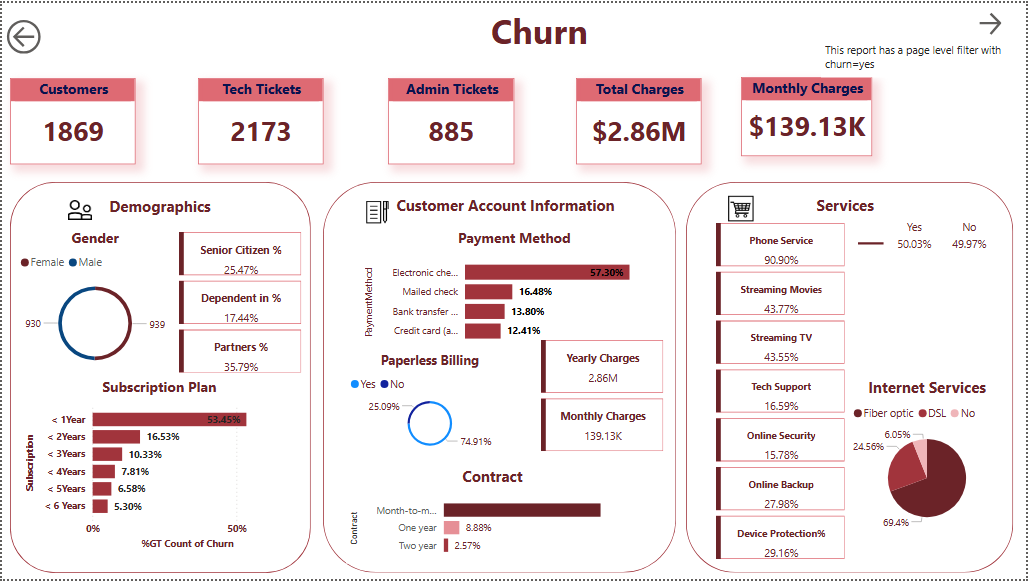

The dashboard page shown, as its layout file describes it:
{"tool":"powerbi","page":{"name":"Churn","canvas":[1280,720],"ordinal":1},"visuals":[{"type":"textbox","box":[336.9,0,668.5,69],"z":0},{"type":"card","title":"Customers","fields":{"Values":["1_measures.Total Customers"]},"box":[10.3,93.4,157.2,108.2],"z":1000},{"type":"card","title":"Tech Tickets","fields":{"Values":["1_measures.Tech Tickets"]},"box":[244.9,93.4,157.2,108.2],"z":2000},{"type":"card","title":"Admin Tickets","fields":{"Values":["1_measures.Admin Ticket"]},"box":[481.9,93.4,158.4,108.2],"z":3000},{"type":"card","title":"Total Charges","fields":{"Values":["1_measures.Total Charges"]},"box":[717.7,93.4,157.2,108.2],"z":4000},{"type":"card","title":"Monthly Charges","fields":{"Values":["1_measures.Monthly Charges"]},"box":[923.2,92.8,164.5,99.5],"z":5000},{"type":"shape","box":[10.3,223.3,375.9,488.7],"z":6000},{"type":"shape","box":[401.7,223.6,441.4,488.5],"z":7000},{"type":"shape","box":[854.8,223.6,409,488.5],"z":8000},{"type":"donutChart","title":"Gender","fields":{"Category":["Churn.gender"],"Y":["1_measures.Total Customers"]},"box":[17.8,281.1,197.8,186.7],"z":9000},{"type":"textbox","box":[35,236,325,35],"z":10000},{"type":"cardVisual","fields":{"Data":["1_measures.Senior Citizen %","1_measures.Dependent in %","1_measures.Partners %"]},"box":[216.2,281.2,163.2,187],"z":11000},{"type":"barChart","title":"Subscription Plan","fields":{"Category":["Churn.Subscription"],"Y":["CountNonNull(Churn.Churn)"]},"box":[25.6,467.8,343.3,221.1],"z":12000},{"type":"textbox","box":[470,235.6,318.9,35.6],"z":13000},{"type":"donutChart","title":"Paperless Billing","fields":{"Category":["Churn.PaperlessBilling"],"Y":["CountNonNull(Churn.PaperlessBilling)"]},"box":[429.8,435.1,209.6,131.3],"z":14000},{"type":"barChart","title":"Payment Method","fields":{"Category":["Churn.PaymentMethod"],"Y":["CountNonNull(Churn.PaymentMethod)"]},"box":[448.3,281.2,383.3,153.9],"z":15000},{"type":"barChart","title":"Contract","fields":{"Category":["Churn.Contract"],"Y":["CountNonNull(Churn.Contract)"]},"box":[429.8,578.3,366.1,122],"z":16000},{"type":"textbox","box":[910.7,235.4,285.4,35.3],"z":17000},{"type":"cardVisual","fields":{"Data":["1_measures.Phone Service%","1_measures.Streaming Movies%","1_measures.Streaming TV%","1_measures.Tech Support%","1_measures.Online Security%","1_measures.Online Backup%","1_measures.Device Protection%"]},"box":[887.9,270.1,171.4,430.4],"z":18000},{"type":"pieChart","title":"Internet Services","fields":{"Category":["Churn.InternetService"],"Y":["1_measures.Total Customers"]},"box":[1058.5,466.9,195,199],"z":19000},{"type":"textbox","box":[1024,45.1,252,47.8],"z":20000},{"type":"cardVisual","fields":{"Data":["Sum(Churn.TotalCharges)","Sum(Churn.MonthlyCharges)"]},"box":[668.5,416.5,163.2,149.9],"z":21000},{"type":"image","box":[76.9,236.1,39.8,45.1],"z":22000},{"type":"image","box":[445.7,242.7,46.4,38.5],"z":23000},{"type":"image","box":[902,234.8,42.4,43.8],"z":24000},{"type":"card","title":"Yes","fields":{"Values":["1_measures.Multiple Lines(yes)"]},"box":[1111.8,270.8,58.1,48.2],"z":25000},{"type":"card","title":"No","fields":{"Values":["1_measures.Multiple Lines(No)"]},"box":[1179.8,270.8,58.1,48.2],"z":26000},{"type":"basicShape","box":[1059.9,280.7,51.9,38.3],"z":27000},{"type":"actionButton","box":[0,14.8,68,54.4],"z":27001},{"type":"actionButton","box":[1215.7,7.4,64.3,37.1],"z":27002}]}

Visuals, with their boxes in screenshot pixels (x1, y1, x2, y2), scaled from the page's 1280x720 canvas onto the 1030x581 screenshot:
textbox: {"left": 271, "top": 0, "right": 809, "bottom": 56}
"Customers" card: {"left": 8, "top": 75, "right": 135, "bottom": 163}
"Tech Tickets" card: {"left": 197, "top": 75, "right": 324, "bottom": 163}
"Admin Tickets" card: {"left": 388, "top": 75, "right": 515, "bottom": 163}
"Total Charges" card: {"left": 578, "top": 75, "right": 704, "bottom": 163}
"Monthly Charges" card: {"left": 743, "top": 75, "right": 875, "bottom": 155}
shape: {"left": 8, "top": 180, "right": 311, "bottom": 575}
shape: {"left": 323, "top": 180, "right": 678, "bottom": 575}
shape: {"left": 688, "top": 180, "right": 1017, "bottom": 575}
"Gender" donutChart: {"left": 14, "top": 227, "right": 173, "bottom": 377}
textbox: {"left": 28, "top": 190, "right": 290, "bottom": 219}
cardVisual - 1_measures.Senior Citizen % x 1_measures.Dependent in %: {"left": 174, "top": 227, "right": 305, "bottom": 378}
"Subscription Plan" barChart: {"left": 21, "top": 377, "right": 297, "bottom": 556}
textbox: {"left": 378, "top": 190, "right": 635, "bottom": 219}
"Paperless Billing" donutChart: {"left": 346, "top": 351, "right": 515, "bottom": 457}
"Payment Method" barChart: {"left": 361, "top": 227, "right": 669, "bottom": 351}
"Contract" barChart: {"left": 346, "top": 467, "right": 640, "bottom": 565}
textbox: {"left": 733, "top": 190, "right": 962, "bottom": 218}
cardVisual - 1_measures.Phone Service% x 1_measures.Streaming Movies%: {"left": 714, "top": 218, "right": 852, "bottom": 565}
"Internet Services" pieChart: {"left": 852, "top": 377, "right": 1009, "bottom": 537}
textbox: {"left": 824, "top": 36, "right": 1027, "bottom": 75}
cardVisual - Sum(Churn.TotalCharges) x Sum(Churn.MonthlyCharges): {"left": 538, "top": 336, "right": 669, "bottom": 457}
image: {"left": 62, "top": 191, "right": 94, "bottom": 227}
image: {"left": 359, "top": 196, "right": 396, "bottom": 227}
image: {"left": 726, "top": 189, "right": 760, "bottom": 225}
"Yes" card: {"left": 895, "top": 219, "right": 941, "bottom": 257}
"No" card: {"left": 949, "top": 219, "right": 996, "bottom": 257}
basicShape: {"left": 853, "top": 227, "right": 895, "bottom": 257}
actionButton: {"left": 0, "top": 12, "right": 55, "bottom": 56}
actionButton: {"left": 978, "top": 6, "right": 1029, "bottom": 36}
